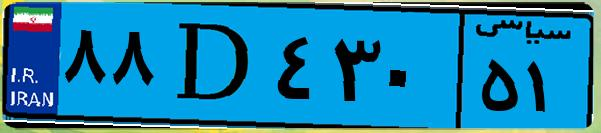0: (385, 28, 445, 110)
1: (525, 38, 570, 115)
3: (330, 28, 385, 110)
4: (270, 28, 330, 110)
5: (475, 38, 525, 113)
8: (57, 26, 110, 100), (110, 28, 158, 98)
D: (158, 12, 270, 120)
